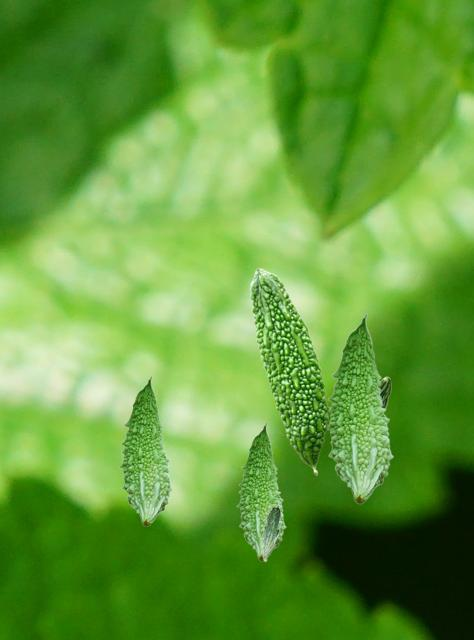ampalaya: (249, 267, 331, 476), (327, 313, 394, 504), (118, 375, 173, 527), (236, 422, 286, 562), (261, 501, 281, 562), (379, 376, 392, 407)
